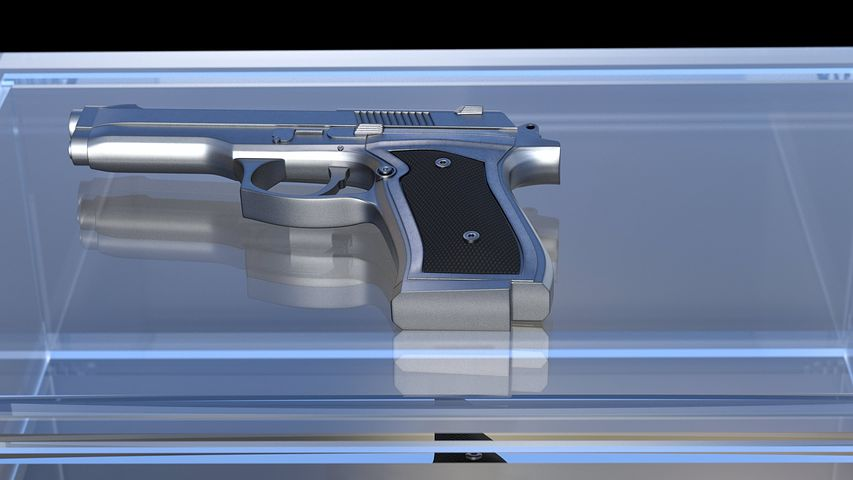gun: (51, 99, 597, 337)
